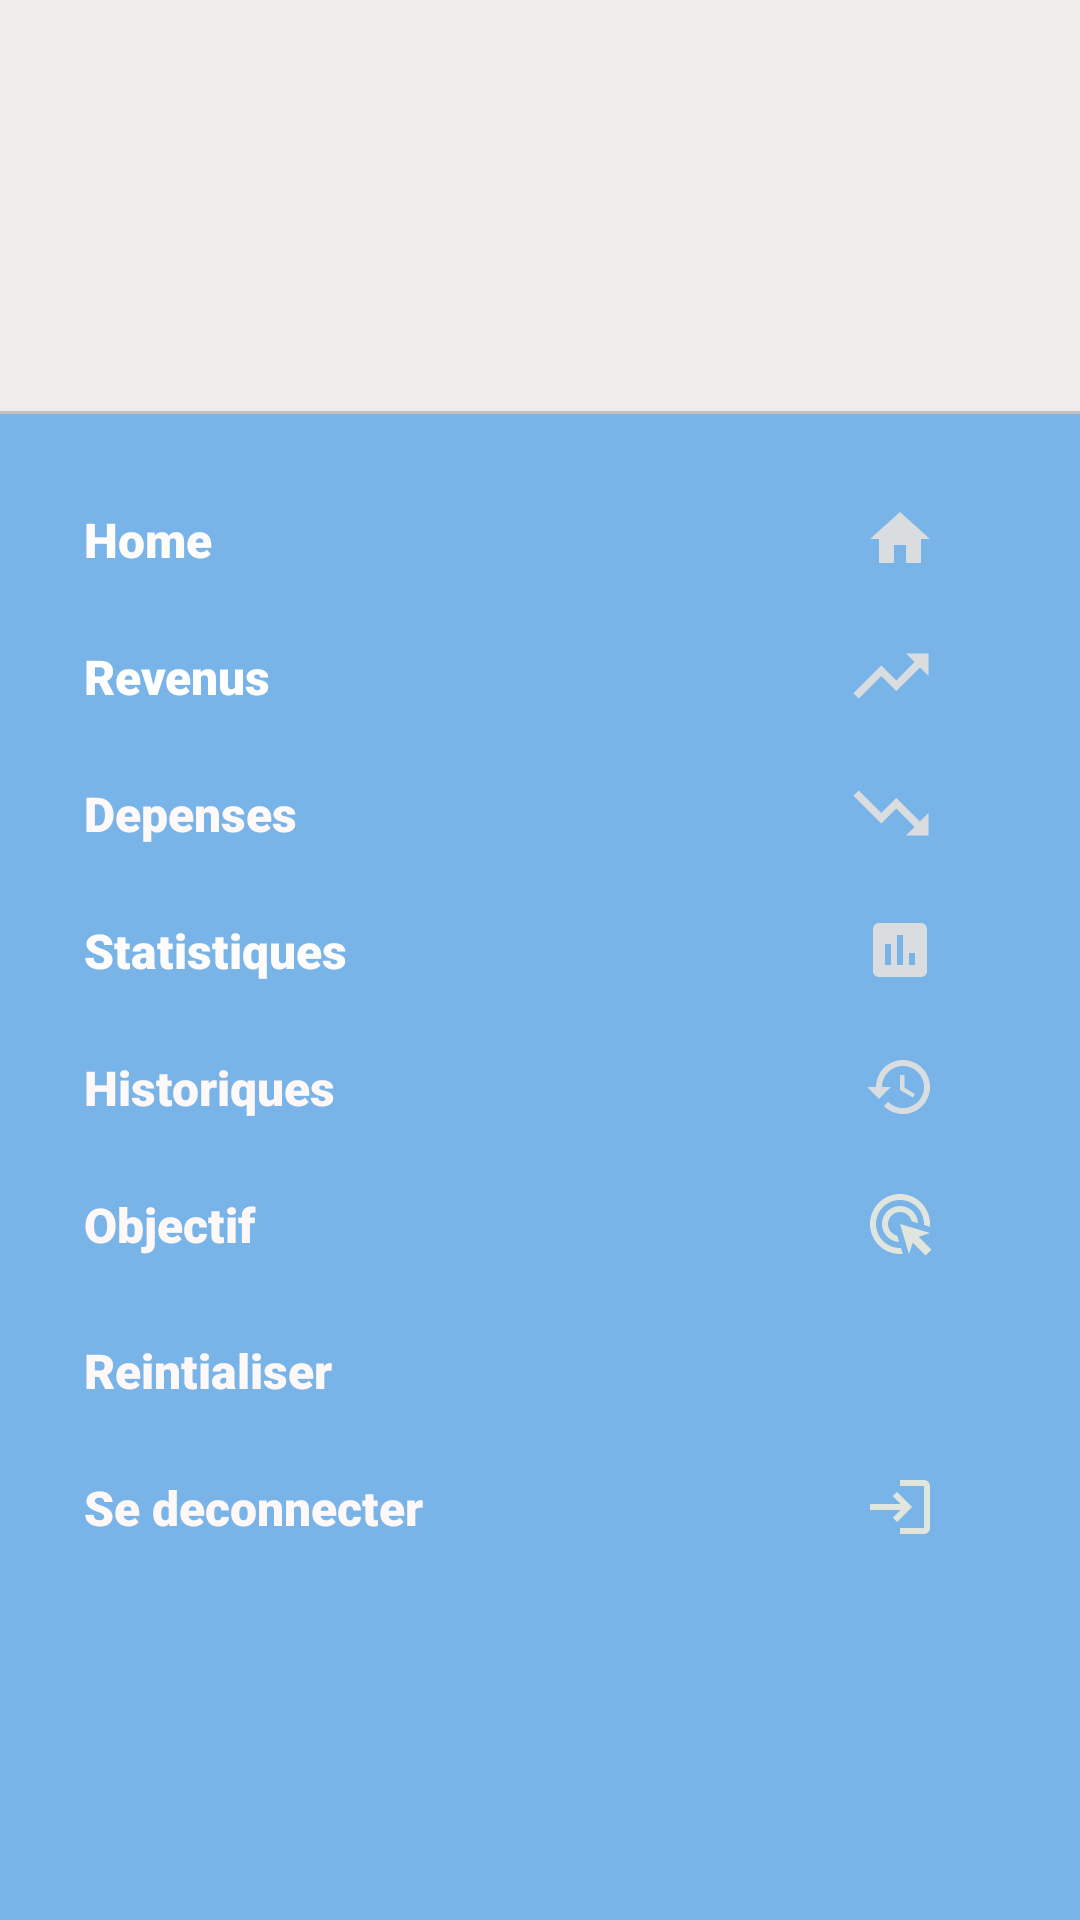

Icons on this 1080 x 1920 Android screen, each with its box as (x1, y1, x2, y2):
cible: (870, 1194, 932, 1256)
history: (867, 1060, 930, 1114)
stats: (873, 923, 927, 977)
